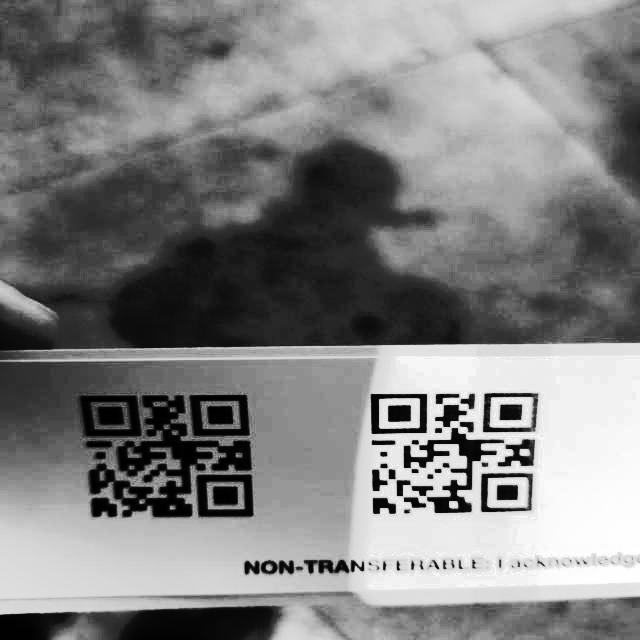qr_code: (354, 376, 556, 531), (64, 380, 265, 533)
